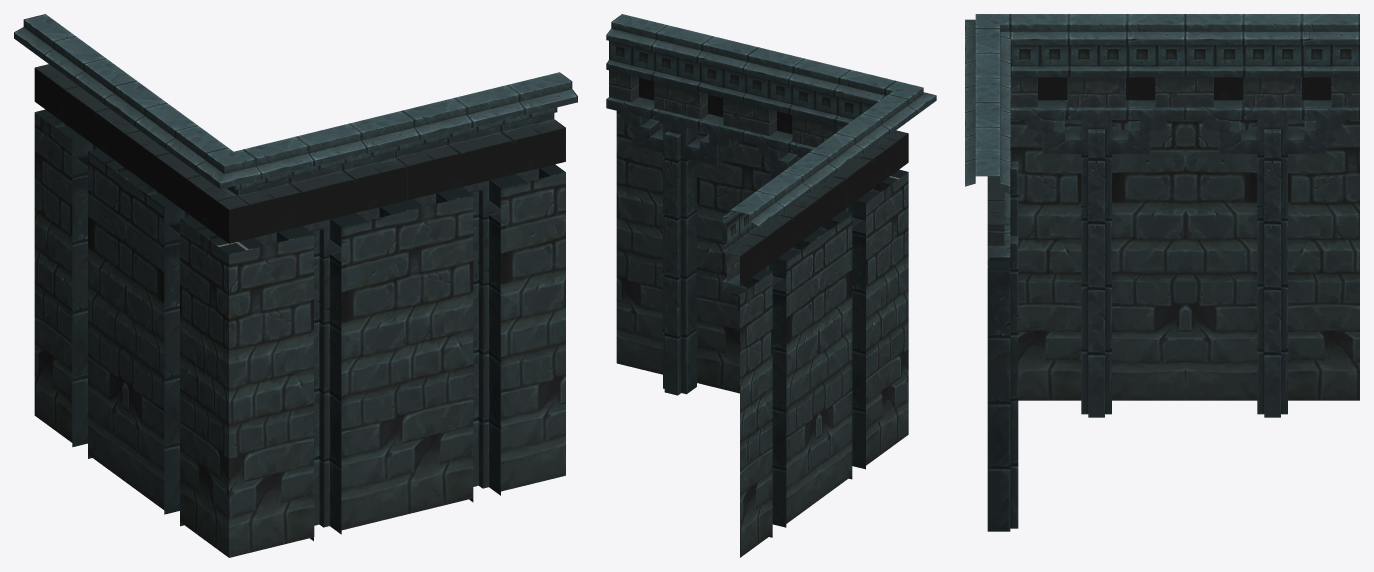
Rendered from Stage_DiXiaCheng_DiMianBaoBian03.FBX.
3 views of the same model, side by side, from view 1: azimuth 30°, elevation 25°; view 2: azimuth 150°, elevation 25°; view 3: azimuth 270°, elevation 25° (orthographic). The views are drawn at different scales.
Visible parts, largest first — view 1: Stage_DiXiaCheng_DiMianBaoBian03; view 2: Stage_DiXiaCheng_DiMianBaoBian03; view 3: Stage_DiXiaCheng_DiMianBaoBian03.
Boxes of the visible parts, x1,y1,x2,y2 form: Stage_DiXiaCheng_DiMianBaoBian03: [14, 14, 577, 557]; Stage_DiXiaCheng_DiMianBaoBian03: [606, 14, 936, 557]; Stage_DiXiaCheng_DiMianBaoBian03: [965, 14, 1359, 531].
Bounding box in the file's own units: 1353 × 1458 × 1353.
